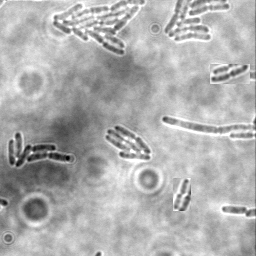Dividing: (161, 114, 255, 133), (210, 64, 250, 84), (173, 178, 191, 211), (221, 204, 248, 215)
Microcolony: (51, 1, 147, 56), (162, 1, 231, 44), (8, 130, 72, 167), (106, 124, 153, 160)
